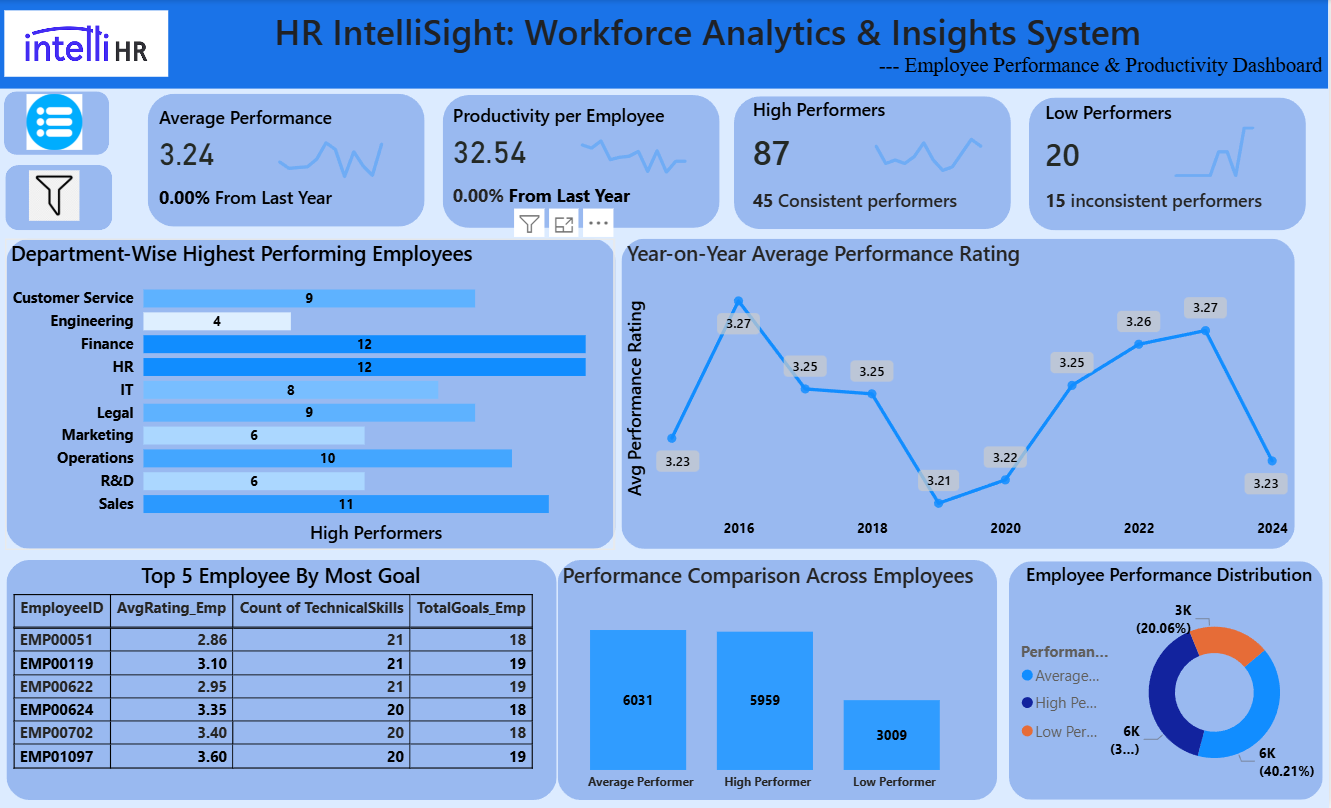

Layout of this report page (visuals, bound fields, positions):
{"tool":"powerbi","page":{"name":"performance & Productivity","canvas":[1200,730],"ordinal":2},"visuals":[{"type":"shape","box":[0,0,1200,80],"z":0},{"type":"shape","box":[912.2,506.7,283.3,215.6],"z":500},{"type":"textbox","box":[0,1.2,1280,78.8],"z":1000},{"type":"shape","box":[399.9,85.7,250,120],"z":1000,"group":"g2"},{"type":"image","box":[0,5,157.5,70],"z":2000},{"type":"shape","box":[134.2,85.2,250,120],"z":2000,"group":"g1"},{"type":"shape","box":[562.7,215.6,607.8,280],"z":3000,"group":"g8"},{"type":"shape","box":[6.7,505.6,496.7,216.7],"z":3000},{"type":"shape","box":[6.6,215.6,550,280],"z":4000,"group":"g7"},{"type":"shape","box":[505.3,505.6,396.7,216.7],"z":4000,"group":"g9"},{"type":"tableEx","title":"Top 5 Employee By Most Goal","fields":{"Values":["02_Performance_Reviews_DIm.EmployeeID","02_Performance_Reviews_DIm.AvgRating_Emp","CountNonNull(02_Performance_Reviews_DIm.TechnicalSkills)","02_Performance_Reviews_DIm.TotalGoals_Emp"]},"box":[6.7,506.7,495.6,215.6],"z":4000},{"type":"cardVisual","fields":{"Data":["02_Performance_Reviews_DIm.Productivity per Employee"]},"box":[392.2,75.6,244.4,127.8],"z":5000,"group":"g2"},{"type":"donutChart","title":"Employee Performance Distribution","fields":{"Y":["CountNonNull(02_Performance_Reviews_DIm.EmployeeID)"],"Category":["02_Performance_Reviews_DIm.Performance Category"]},"box":[917.8,506.7,277.8,215.6],"z":5000},{"type":"columnChart","title":"Performance Comparison Across Employees","fields":{"Category":["02_Performance_Reviews_DIm.Performance Category"],"Y":["CountNonNull(02_Performance_Reviews_DIm.EmployeeID)"]},"box":[483.6,507.2,422.2,216.7],"z":5000,"group":"g9"},{"type":"cardVisual","fields":{"Data":["01_Employee_Master_Fact.Average Performance"]},"box":[127.8,70,233.3,135.6],"z":6000,"group":"g1"},{"type":"group","id":"g1","title":"Group 2","box":[127.8,70,257.8,135.6],"z":8000},{"type":"barChart","title":"Department-Wise Highest Performing Employees","fields":{"Y":["02_Performance_Reviews_DIm.High Performers"],"Category":["01_Employee_Master_Fact.Department"]},"box":[5.9,216.1,550,280],"z":9000,"group":"g7"},{"type":"group","id":"g2","title":"Group 3","box":[392.2,75.6,266.7,130],"z":10000},{"type":"group","id":"g3","title":"Group 4","box":[663.3,70,263.3,136.7],"z":11000},{"type":"group","id":"g4","title":"Group 5","box":[927.8,72.2,252.5,135.6],"z":12000},{"type":"group","id":"g5","title":"Group 6","box":[2.2,148.9,100,58.9],"z":13000},{"type":"shape","box":[5.5,148.9,96.7,58.9],"z":13000,"group":"g5"},{"type":"shape","box":[7,84.8,96.7,57.8],"z":14000,"group":"g6"},{"type":"group","id":"g6","title":"Group 7","box":[4,78.6,100,68.9],"z":15000},{"type":"image","box":[4,78.6,100,68.9],"z":15000,"group":"g6"},{"type":"group","id":"g7","title":"Group 8","box":[5.9,215.6,550.7,280.5],"z":16000},{"type":"shape","box":[663.6,86.4,250,120],"z":17000,"group":"g3"},{"type":"image","box":[2.2,148.9,95.6,55.6],"z":17000,"group":"g5"},{"type":"group","id":"g8","title":"Group 9","box":[562.2,215.6,607.8,280],"z":17000},{"type":"group","id":"g9","title":"Group 10","box":[483.6,505.6,422.2,218.3],"z":18000},{"type":"lineChart","fields":{"Y":["01_Employee_Master_Fact.Average Performance"],"Category":["Calendar.Month"]},"box":[230.5,105.3,155.6,70],"z":20500,"group":"g1"},{"type":"lineChart","title":"Year-on-Year Average Performance Rating","fields":{"Category":["Calendar.Year"],"Y":["02_Performance_Reviews_DIm.Avg Performance Rating"]},"box":[562.2,216.1,606.7,280],"z":22000,"group":"g8"},{"type":"cardVisual","fields":{"Data":["02_Performance_Reviews_DIm.High Performers"]},"box":[663.3,70,248.9,135.6],"z":23000,"group":"g3"},{"type":"lineChart","fields":{"Category":["Calendar.Month"],"Y":["02_Performance_Reviews_DIm.High Performers"]},"box":[767.7,102.2,158.9,66.7],"z":24000,"group":"g3"},{"type":"lineChart","fields":{"Category":["Calendar.Month"],"Y":["02_Performance_Reviews_DIm.Productivity per Employee"]},"box":[502.6,104,156.7,66.7],"z":25000,"group":"g2"},{"type":"shape","box":[930.3,87.8,250,120],"z":26000,"group":"g4"},{"type":"cardVisual","fields":{"Data":["02_Performance_Reviews_DIm.Low Performers"]},"box":[927.8,72.2,238.9,135.6],"z":27000,"group":"g4"},{"type":"lineChart","fields":{"Category":["Calendar.Month"],"Y":["02_Performance_Reviews_DIm.Low Performers Consistent"]},"box":[1024.7,102,145.6,63.3],"z":28000,"group":"g4"}]}

Visuals, with their boxes in screenshot pixels (x1, y1, x2, y2), scaled from the page's 1200x730 canvas onto the 1331x808 screenshot:
shape: (left=0, top=0, right=1330, bottom=89)
shape: (left=1012, top=561, right=1326, bottom=799)
textbox: (left=0, top=1, right=1330, bottom=89)
shape: (left=444, top=95, right=721, bottom=228)
image: (left=0, top=6, right=175, bottom=83)
shape: (left=149, top=94, right=426, bottom=227)
shape: (left=624, top=239, right=1298, bottom=549)
shape: (left=7, top=560, right=558, bottom=799)
shape: (left=7, top=239, right=617, bottom=549)
shape: (left=560, top=560, right=1000, bottom=799)
"Top 5 Employee By Most Goal" tableEx: (left=7, top=561, right=557, bottom=799)
cardVisual - 02_Performance_Reviews_DIm.Productivity per Employee: (left=435, top=84, right=706, bottom=225)
"Employee Performance Distribution" donutChart: (left=1018, top=561, right=1326, bottom=799)
"Performance Comparison Across Employees" columnChart: (left=536, top=561, right=1005, bottom=801)
cardVisual - 01_Employee_Master_Fact.Average Performance: (left=142, top=77, right=401, bottom=228)
"Group 2" group: (left=142, top=77, right=428, bottom=228)
"Department-Wise Highest Performing Employees" barChart: (left=7, top=239, right=617, bottom=549)
"Group 3" group: (left=435, top=84, right=731, bottom=228)
"Group 4" group: (left=736, top=77, right=1028, bottom=229)
"Group 5" group: (left=1029, top=80, right=1309, bottom=230)
"Group 6" group: (left=2, top=165, right=113, bottom=230)
shape: (left=6, top=165, right=113, bottom=230)
shape: (left=8, top=94, right=115, bottom=158)
"Group 7" group: (left=4, top=87, right=115, bottom=163)
image: (left=4, top=87, right=115, bottom=163)
"Group 8" group: (left=7, top=239, right=617, bottom=549)
shape: (left=736, top=96, right=1013, bottom=228)
image: (left=2, top=165, right=108, bottom=226)
"Group 9" group: (left=624, top=239, right=1298, bottom=549)
"Group 10" group: (left=536, top=560, right=1005, bottom=801)
lineChart - 01_Employee_Master_Fact.Average Performance x Calendar.Month: (left=256, top=117, right=428, bottom=194)
"Year-on-Year Average Performance Rating" lineChart: (left=624, top=239, right=1297, bottom=549)
cardVisual - 02_Performance_Reviews_DIm.High Performers: (left=736, top=77, right=1012, bottom=228)
lineChart - Calendar.Month x 02_Performance_Reviews_DIm.High Performers: (left=852, top=113, right=1028, bottom=187)
lineChart - Calendar.Month x 02_Performance_Reviews_DIm.Productivity per Employee: (left=557, top=115, right=731, bottom=189)
shape: (left=1032, top=97, right=1309, bottom=230)
cardVisual - 02_Performance_Reviews_DIm.Low Performers: (left=1029, top=80, right=1294, bottom=230)
lineChart - Calendar.Month x 02_Performance_Reviews_DIm.Low Performers Consistent: (left=1137, top=113, right=1298, bottom=183)
